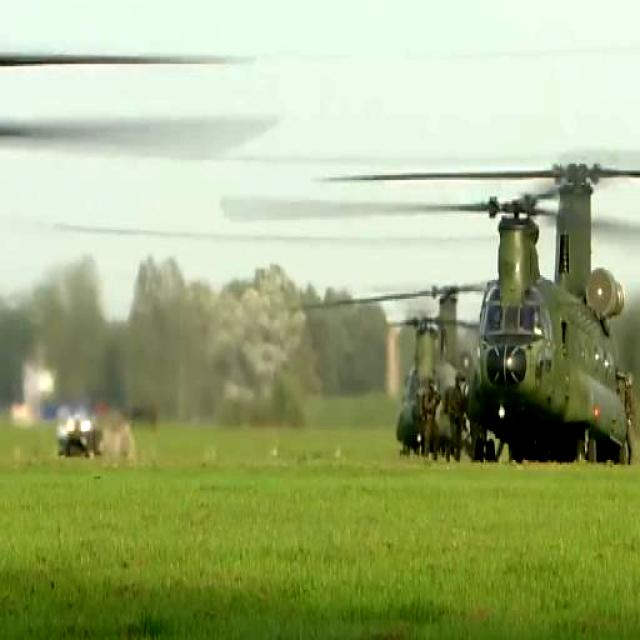drone: (0, 35, 285, 498), (314, 146, 640, 489)
